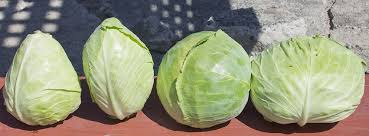cabbage: (255, 27, 366, 126), (158, 23, 253, 126), (3, 28, 83, 128), (83, 24, 156, 118)
